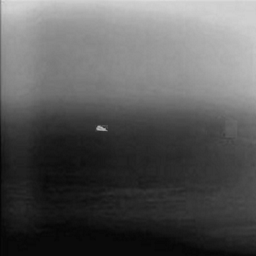Target: (95, 125, 109, 132)
